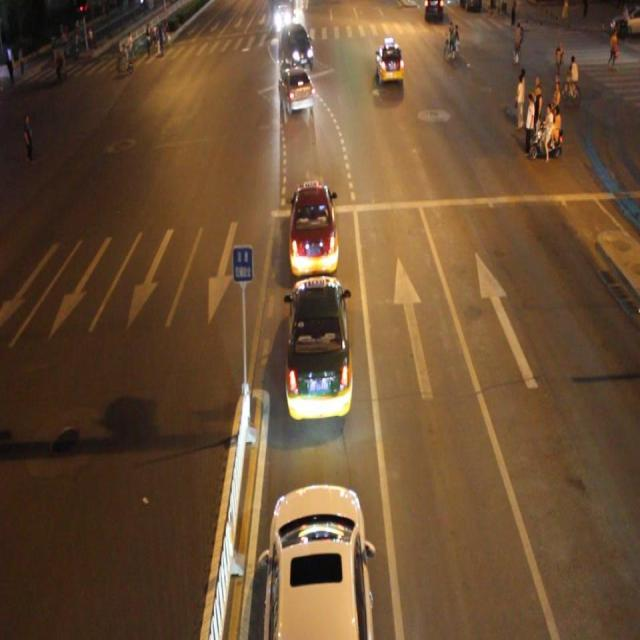car: (259, 479, 375, 640), (282, 274, 354, 422), (287, 181, 339, 273), (278, 67, 314, 113), (280, 23, 313, 68), (375, 42, 404, 84)
